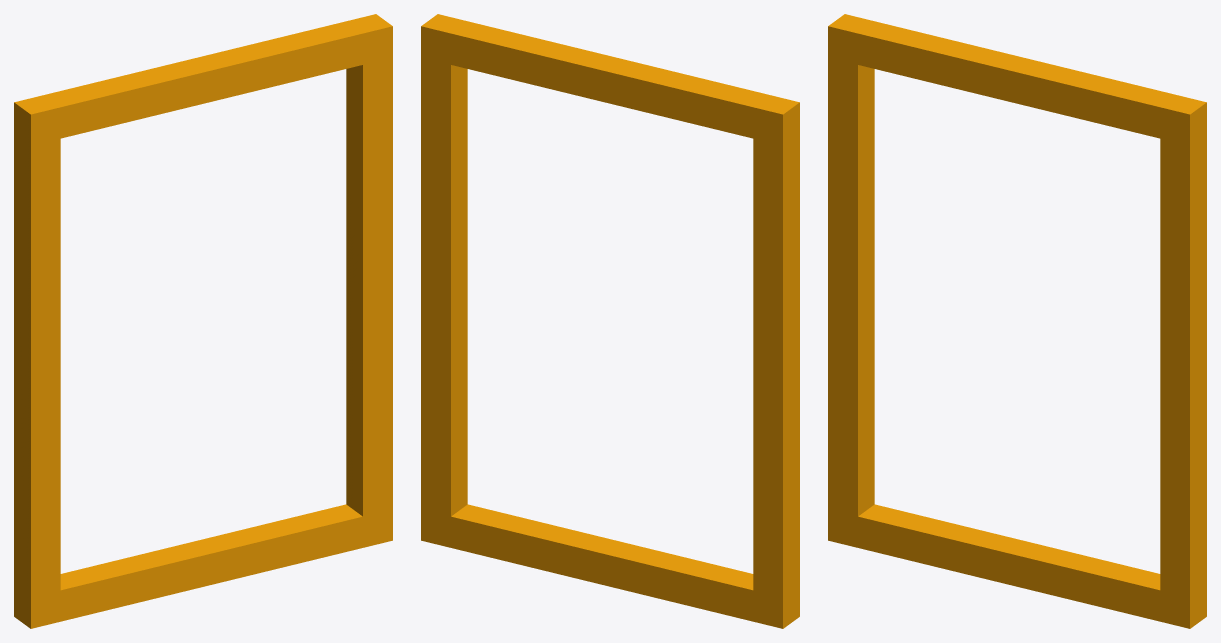
File: ng_portal_01.obj
3 views of the same model, side by side, from view 1: azimuth 30°, elevation 25°; view 2: azimuth 150°, elevation 25°; view 3: azimuth 330°, elevation 25° (orthographic).
Visible parts, largest first — view 1: Cube_Cube.001; view 2: Cube_Cube.001; view 3: Cube_Cube.001.
Boxes of the visible parts, bbox=[...] form: Cube_Cube.001: bbox=[14, 14, 392, 628]; Cube_Cube.001: bbox=[421, 14, 799, 628]; Cube_Cube.001: bbox=[828, 14, 1206, 628].
Size of the model in its own units: 1.62 by 2.2 by 0.1297.
